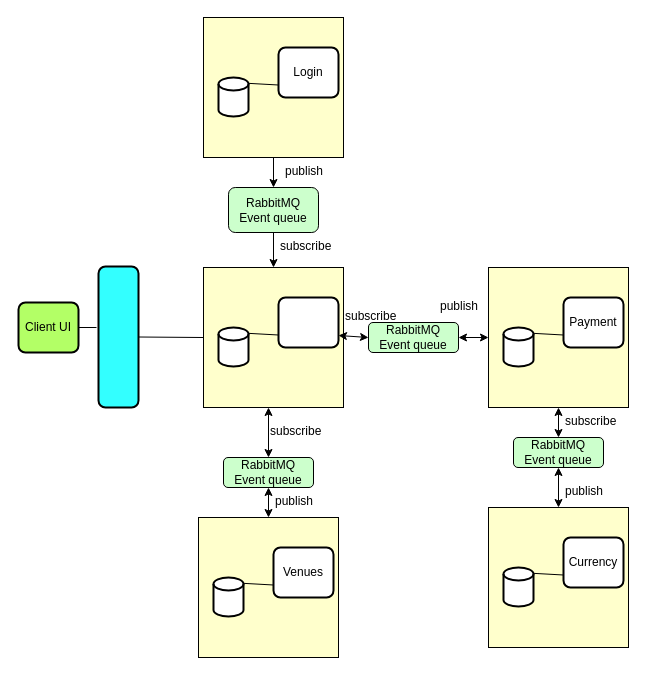
The diagram is 646 pixels wide and 675 high, and some of its shapes have lost their labels. The shapes that lost their labels are listed below. From the top down, each one's box as (x1, y1, x2, y2) in pixels, then its label:
(97, 265, 139, 408): API Getway
(277, 296, 339, 348): Booking
